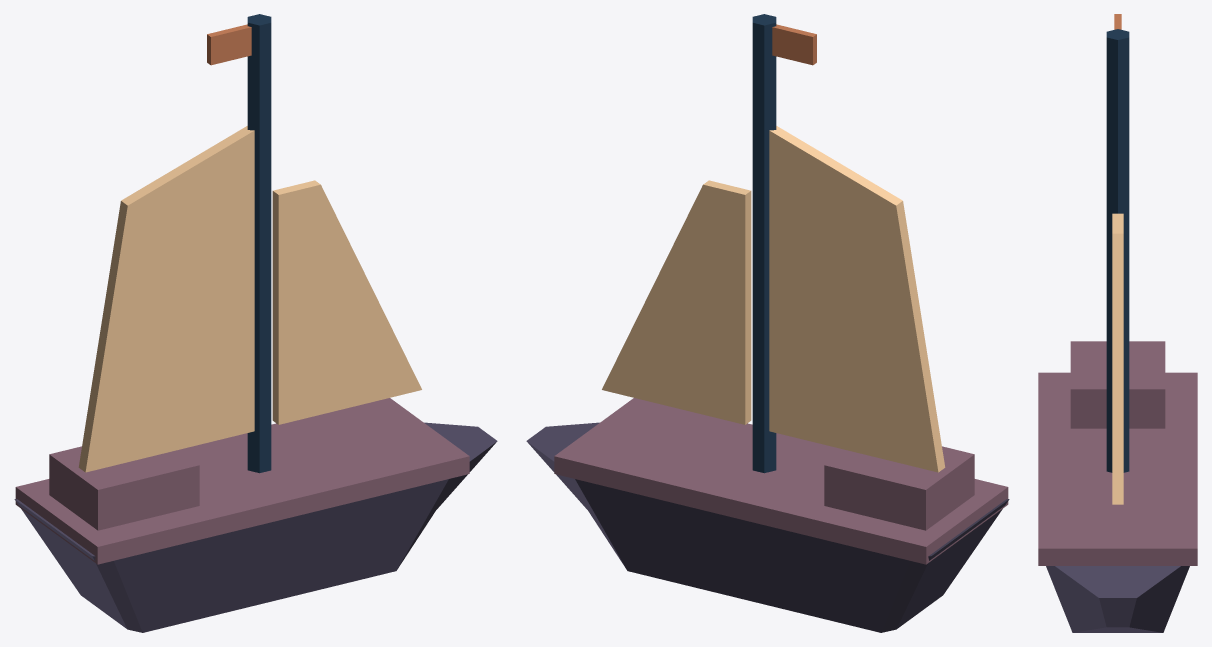
The model's file is ship.glb.
The picture shows the model from 3 angles, left to right: view 1: azimuth 30°, elevation 25°; view 2: azimuth 150°, elevation 25°; view 3: azimuth 270°, elevation 25°; orthographic projection. The views are drawn at different scales.
Parts seen in each view (by area): view 1: Ship; view 2: Ship; view 3: Ship.
Part boxes in pixels (<box>): Ship: <box>14,14,497,632</box>; Ship: <box>526,14,1009,632</box>; Ship: <box>1038,14,1197,632</box>.
Bounding box in the file's own units: 2.57 × 3.18 × 0.84.
